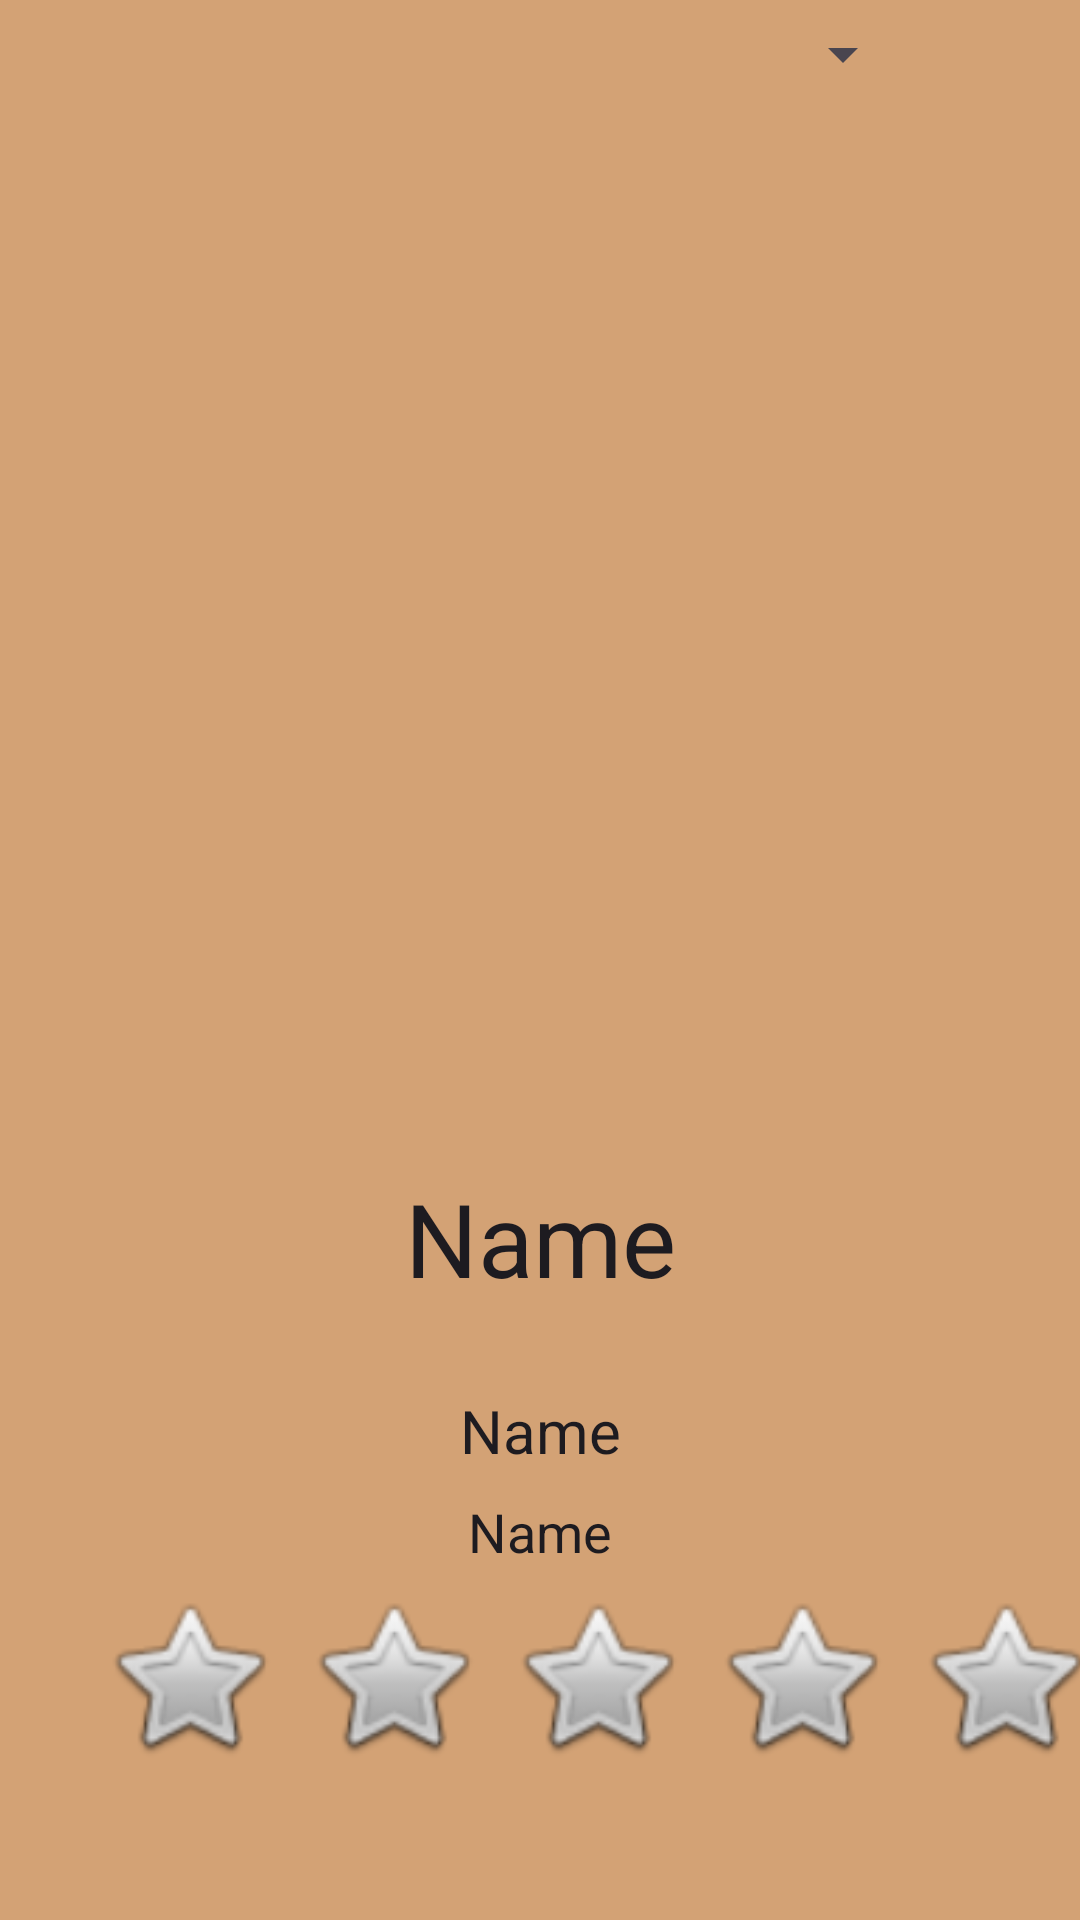

Point at icon controls on the screen. Image size 1080 × 1920, points as [x,y].
star off: [191,1678], [395,1678], [599,1678], [803,1678], [1006,1678]
